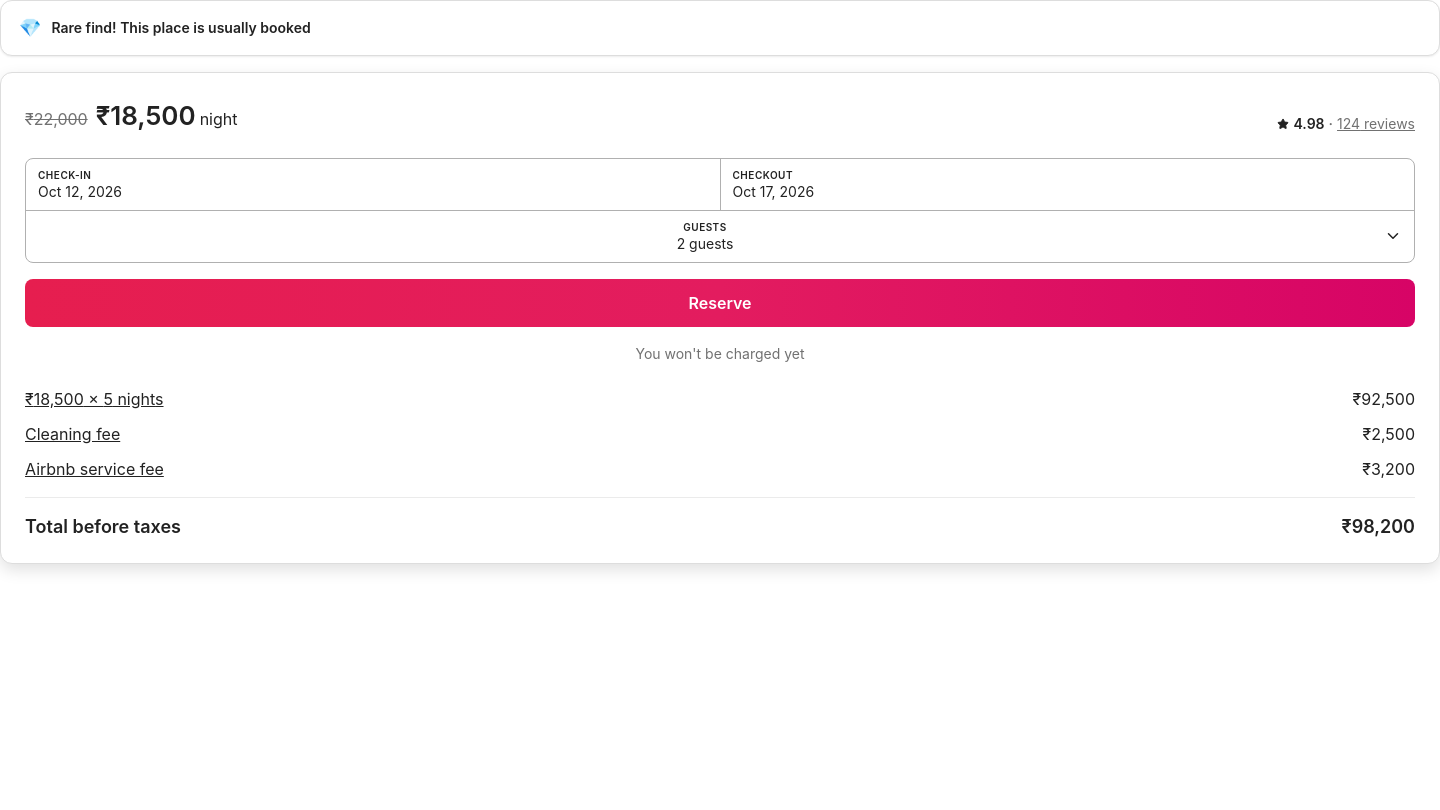
Scenario: ReservationCard Component › toggles guest dropdown when guests button is clicked
This screenshot has width=1440, height=810.
Click the button with aria-label "Guests selector" at (720,236), box top-left (26, 211), bottom-right (1414, 262)
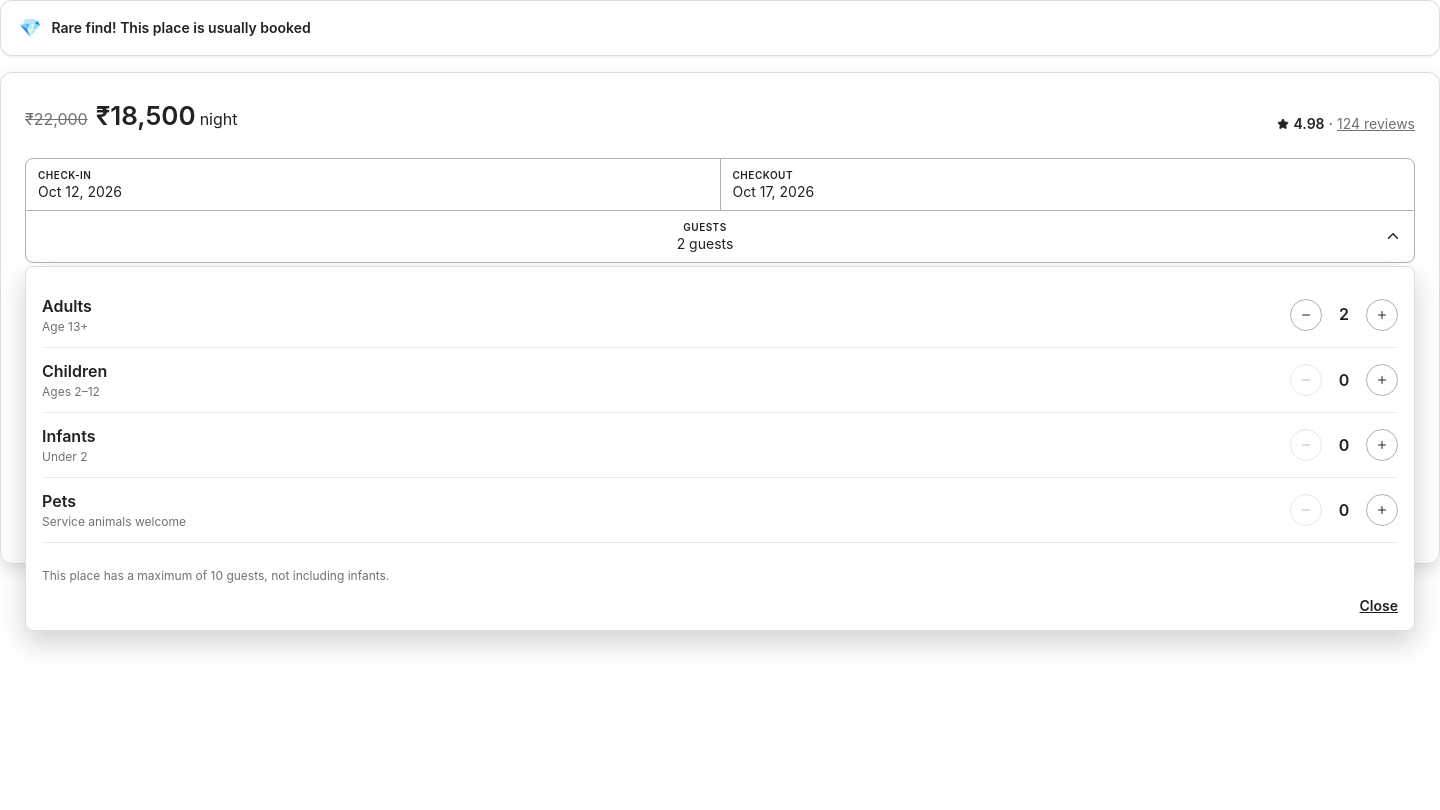
Expected: the text "Age 13+" is shown, top-left (42, 318), bottom-right (92, 335)
Expected: the text "Service animals welcome" is shown, top-left (42, 513), bottom-right (186, 530)
